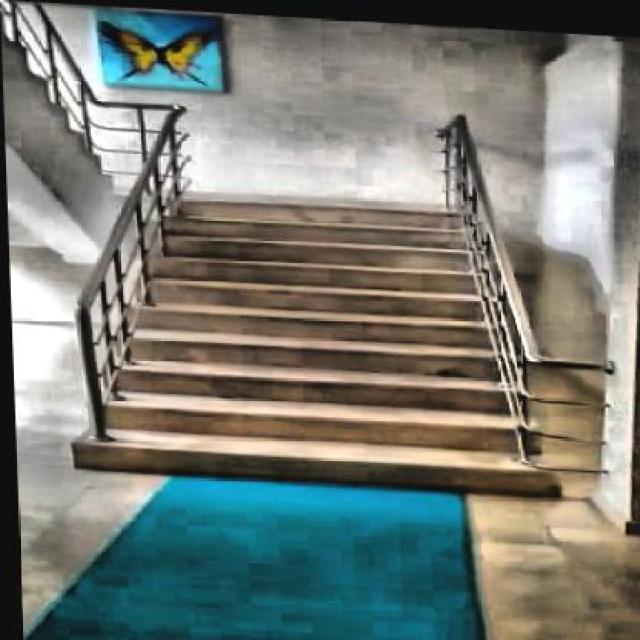stair: (57, 183, 549, 495)
